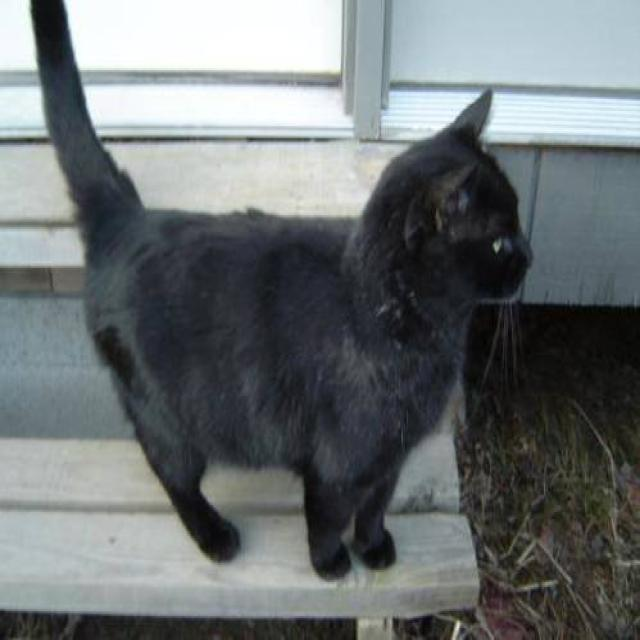cat: (24, 0, 534, 582)
